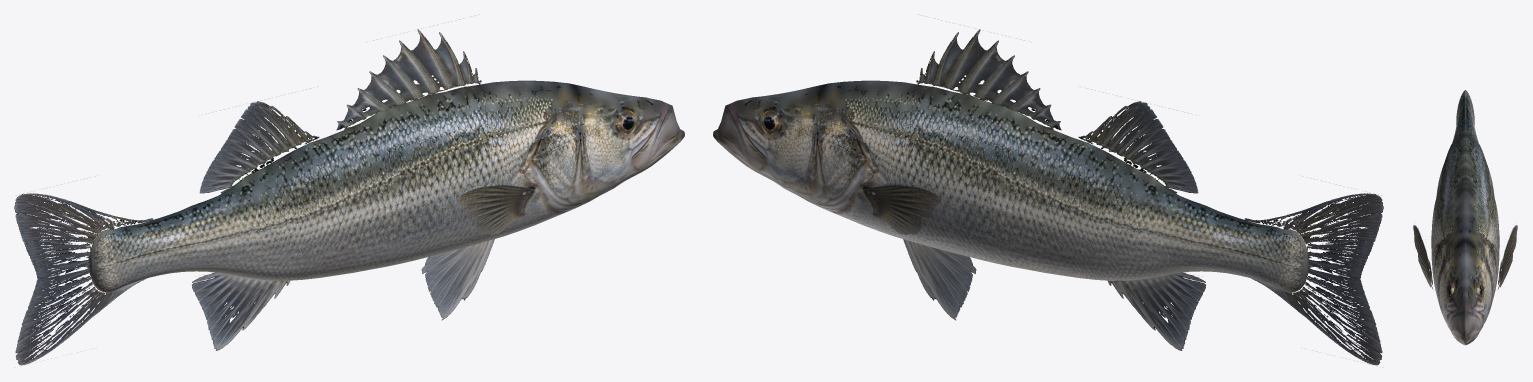
Rendered from seabass.glb.
The picture shows the model from 3 angles, left to right: view 1: azimuth 30°, elevation 25°; view 2: azimuth 150°, elevation 25°; view 3: azimuth 270°, elevation 25°; orthographic projection. The views are drawn at different scales.
Size of the model in its own units: 1 by 0.423 by 0.1806.
Materials: 1 (1 with a texture image).
